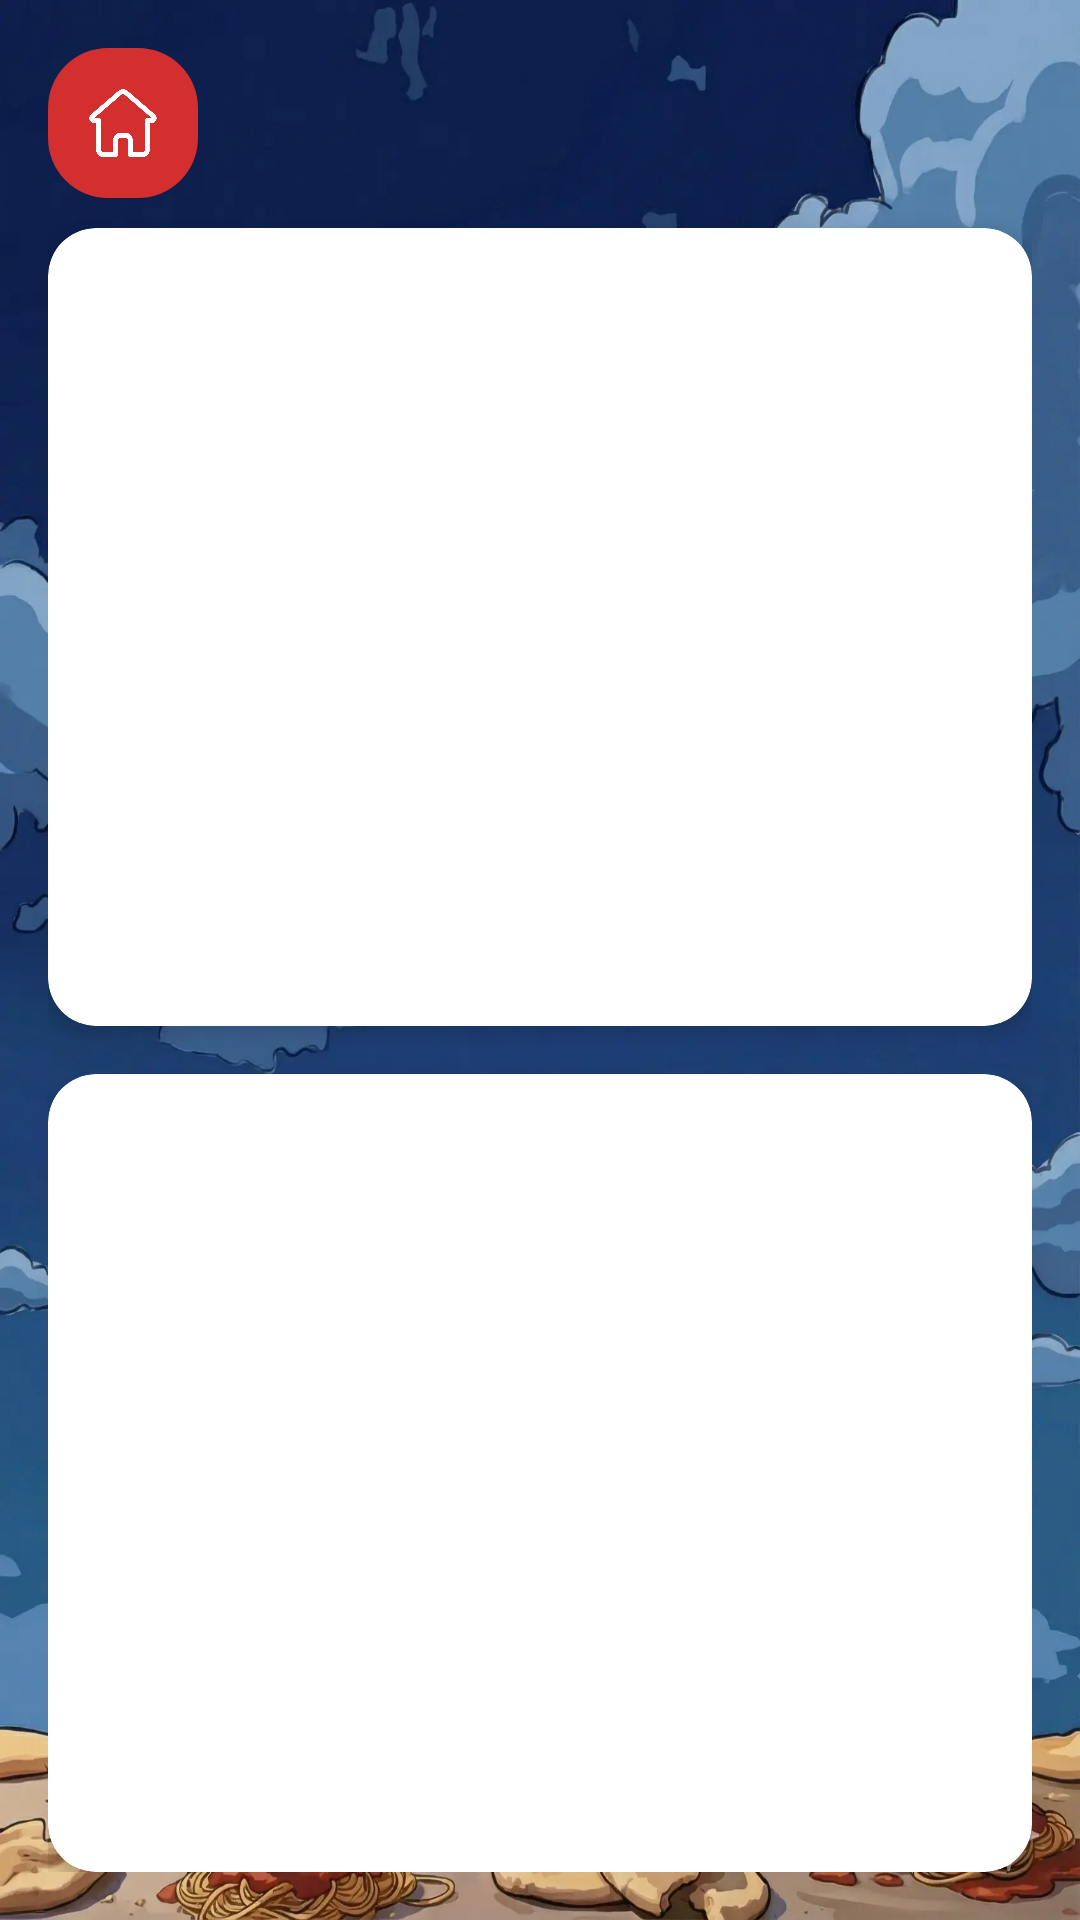

Icon bounding boxes for this 1080 x 1920 phone screenshot, format box=[x1, y1, x2, y2]:
Home: box=[48, 48, 198, 198]
